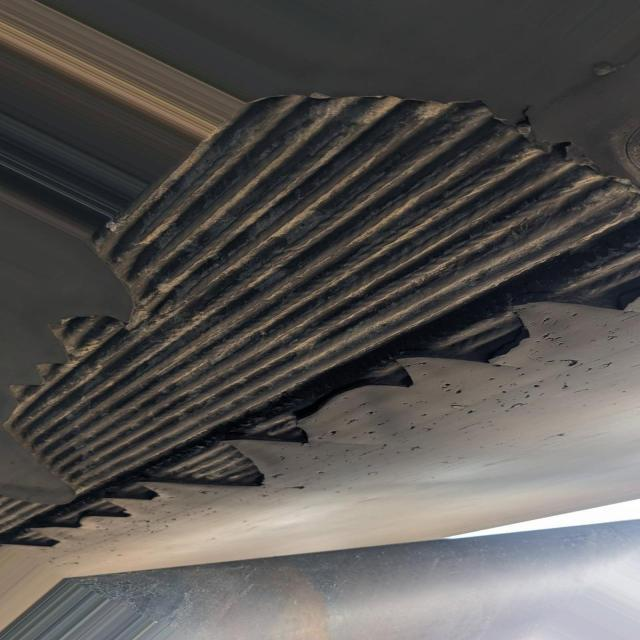Tear: (0, 76, 640, 549)
